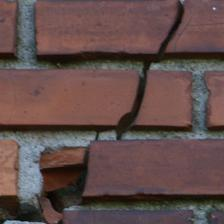Crack: (5, 21, 141, 109), (114, 0, 187, 157)
